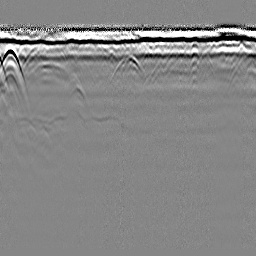cavity: (112, 53, 145, 81)
